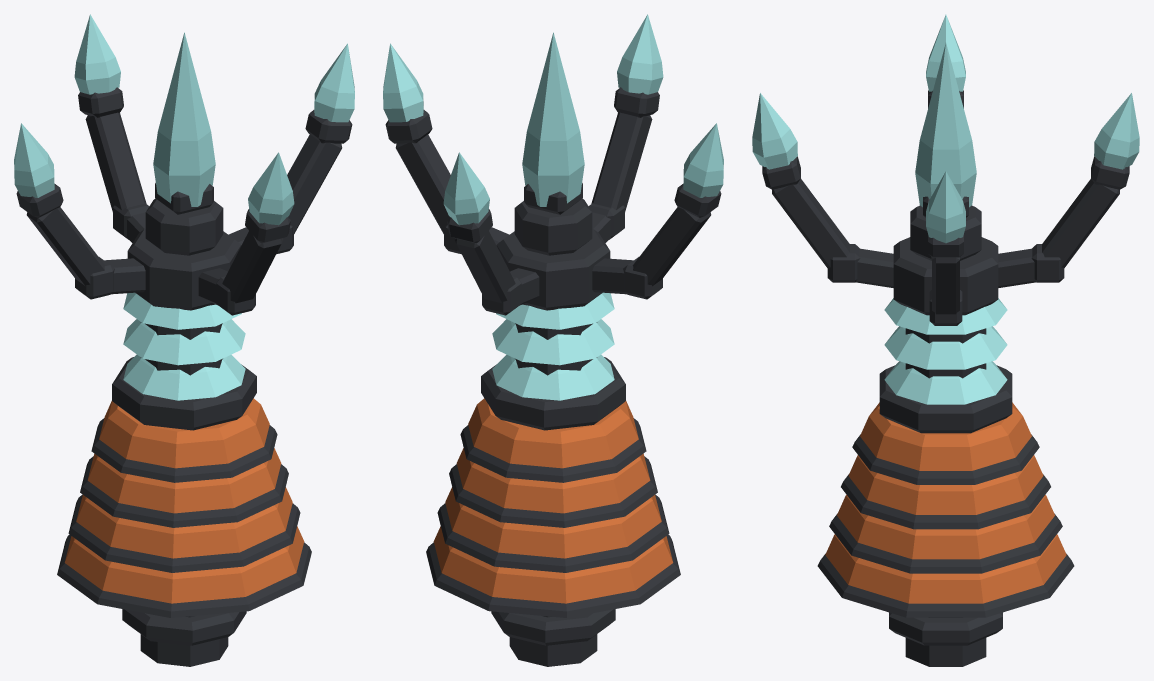
File: TeslaA1.obj
The picture shows the model from 3 angles, left to right: view 1: azimuth 30°, elevation 25°; view 2: azimuth 150°, elevation 25°; view 3: azimuth 270°, elevation 25°; orthographic projection.
Visible parts, largest first — view 1: TeslaA1; view 2: TeslaA1; view 3: TeslaA1.
Part boxes in pixels (box(x1,y1,x2,y2)): TeslaA1: box(14, 14, 354, 666); TeslaA1: box(383, 14, 723, 666); TeslaA1: box(752, 14, 1139, 666).
Bounding box in the file's own units: 0.9048 × 1.57 × 0.9048.
